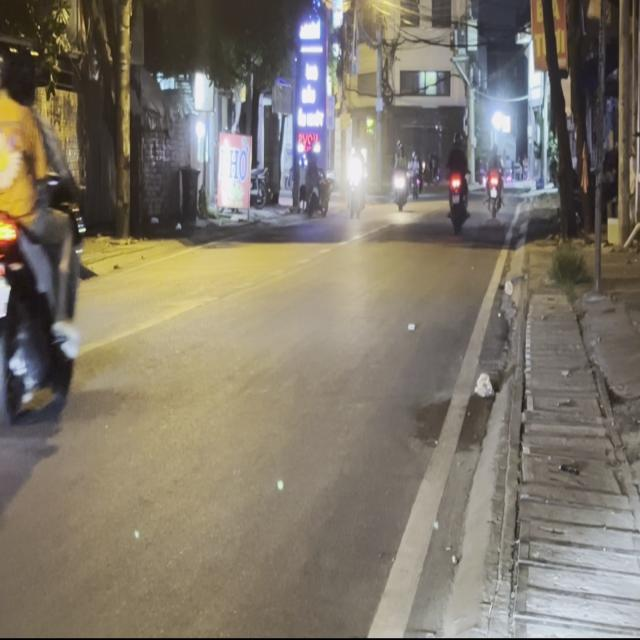helmet: (0, 43, 7, 98)
licenseplate: (0, 36, 89, 429)
motorcyclist: (1, 44, 38, 108)
nohelmet: (0, 280, 8, 316)
